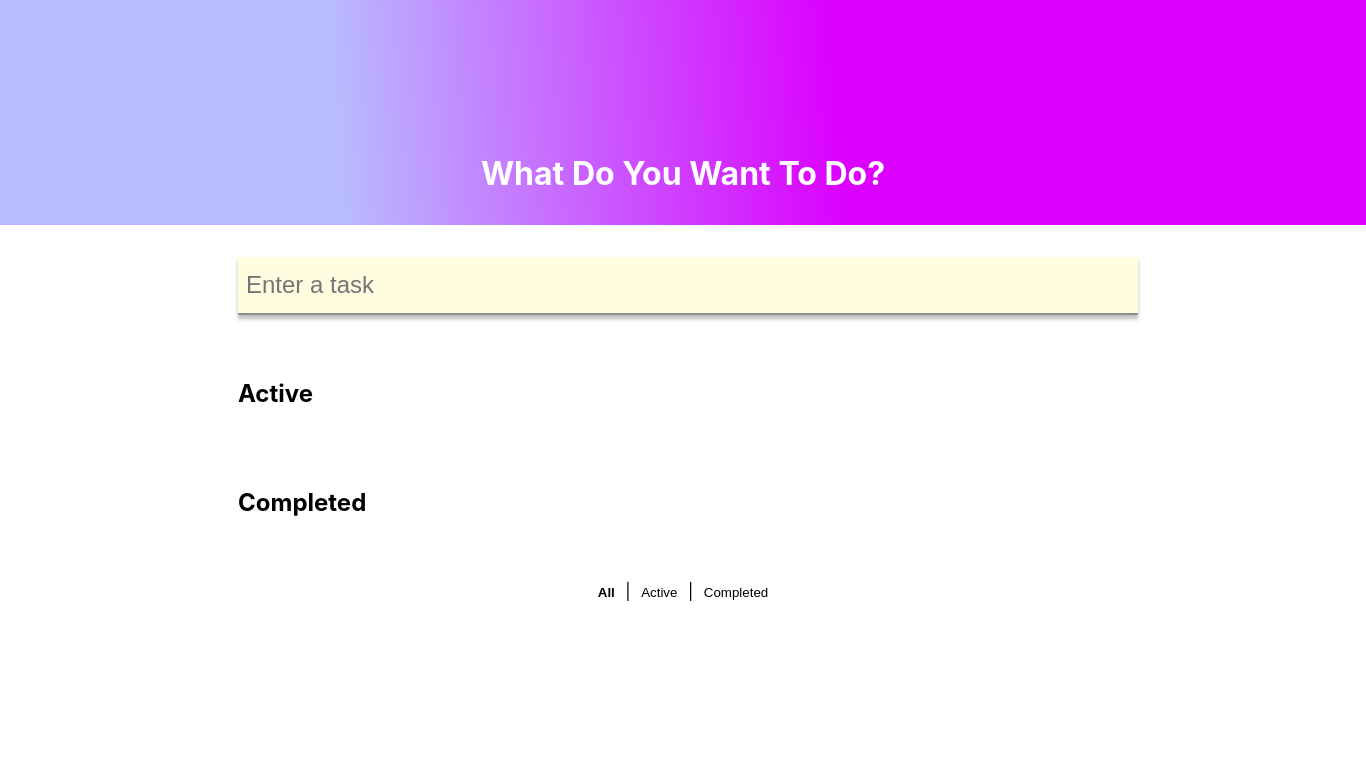
Test: deletes a Task
In the field with placeholder "Enter a task": coordinates (688, 286) [238,257,1138,315], type "Test Task"
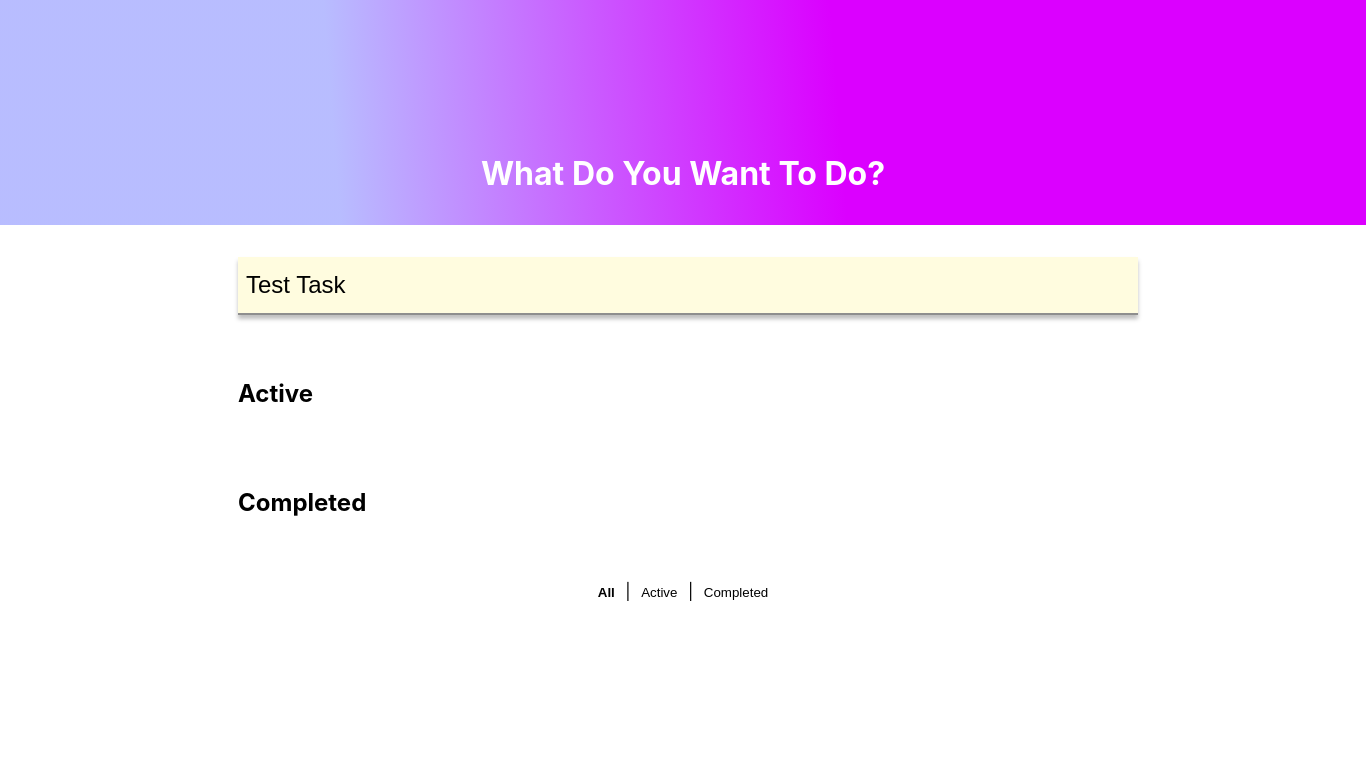
Submit the form from the field with placeholder "Enter a task", box [238,257,1138,315]
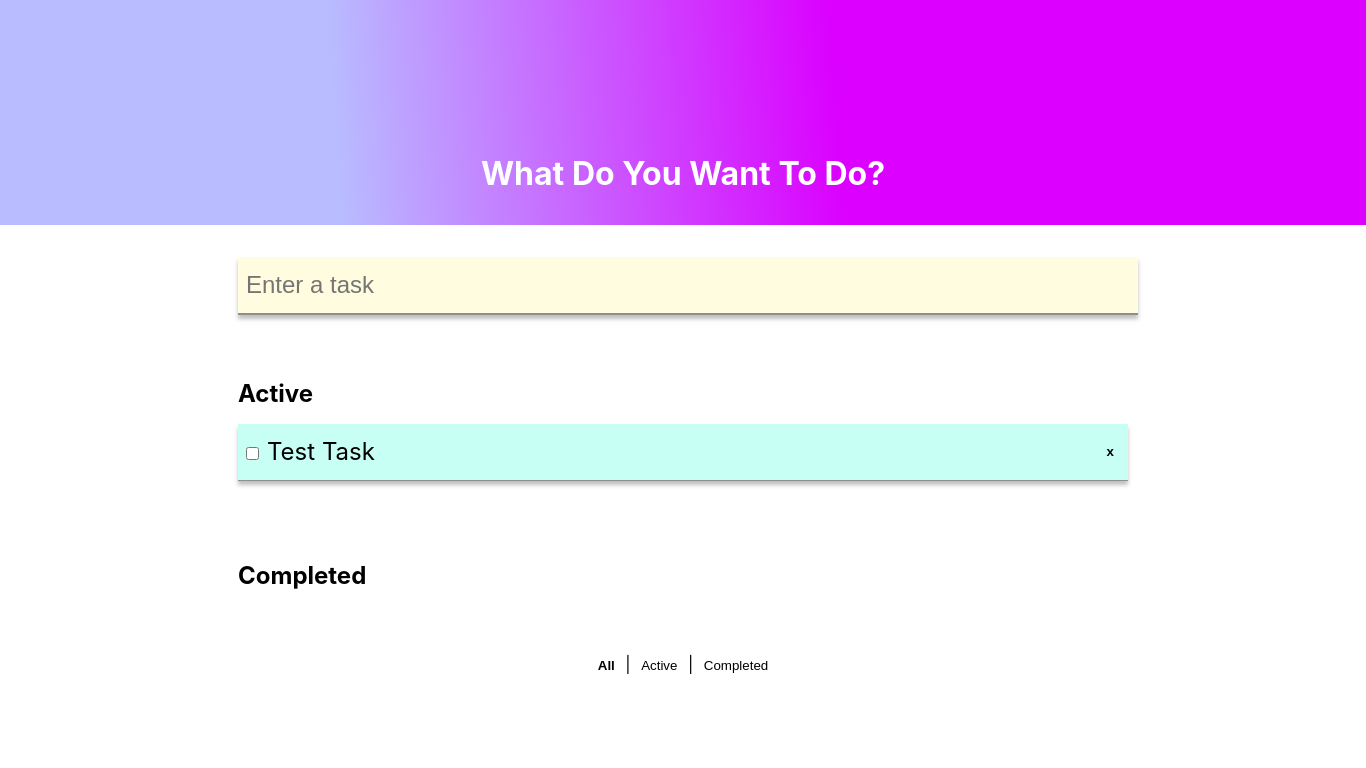
Click the button "x": coordinates (1110, 452) [1101,432,1120,472]
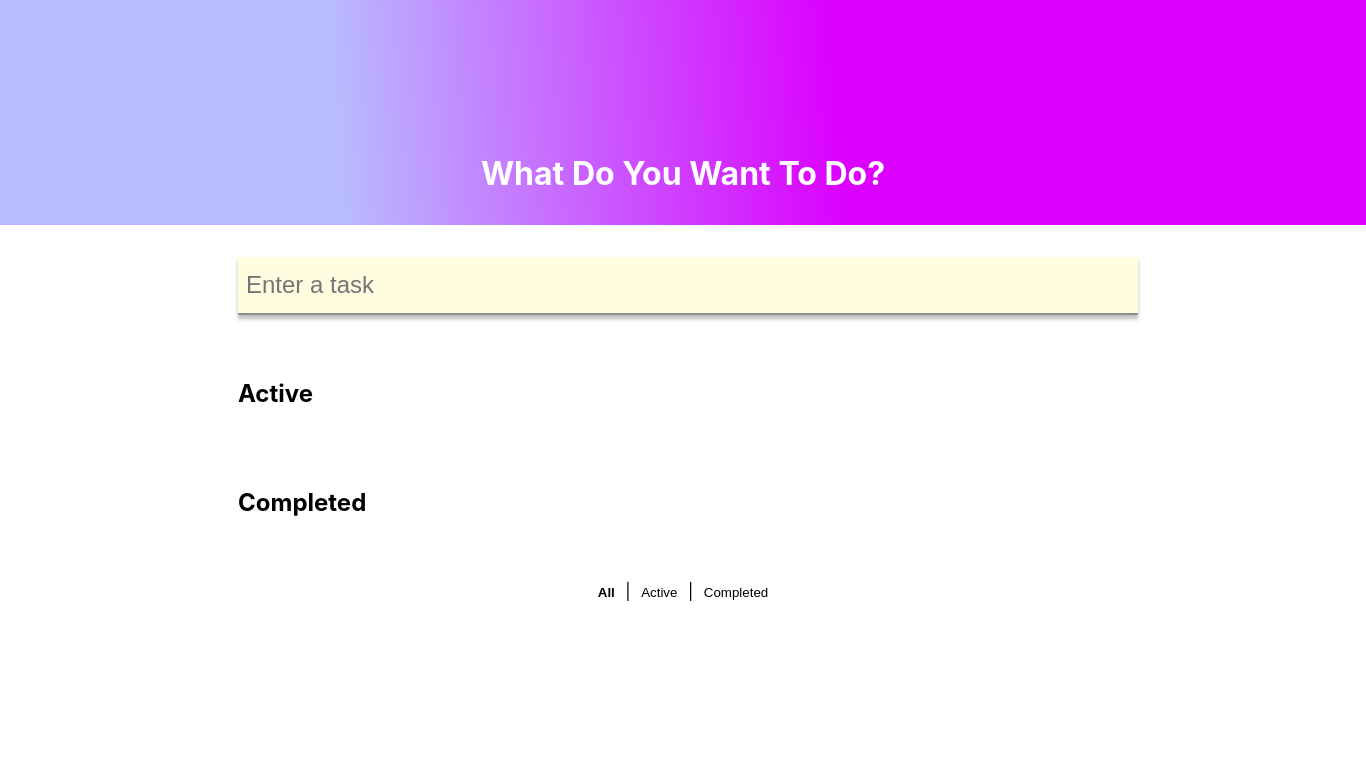
Now the text "Test Task" is gone
